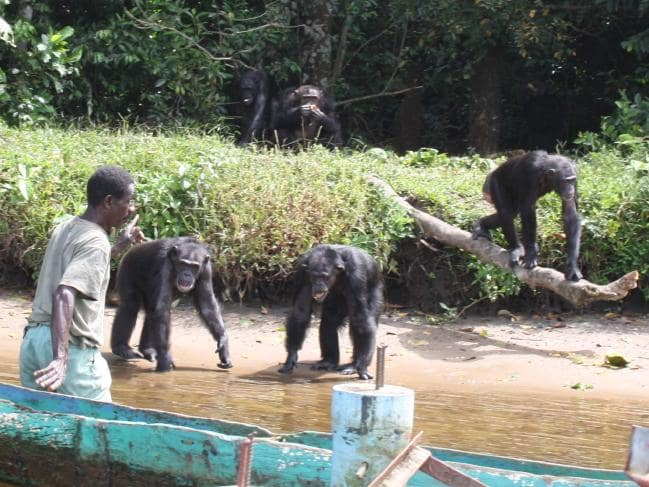Chimpanzee: (479, 152, 586, 281), (289, 243, 384, 382), (126, 244, 224, 361), (281, 81, 341, 151), (229, 61, 273, 144)
